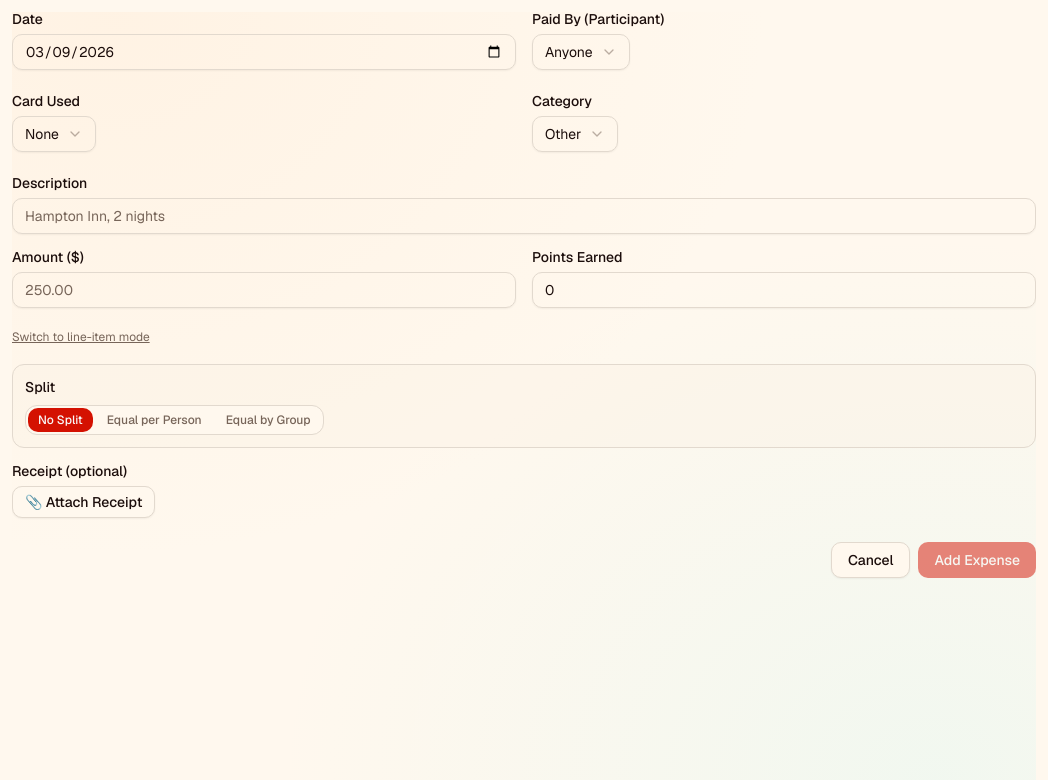
Split mode UI › shows group breakdown in Equal by Group mode when amount is filled
Expected: the text "Split" is shown, [25,378,55,396]
Type "90" into the number field labelled "Amount ($)" at (264, 290), box [12,272,516,308]
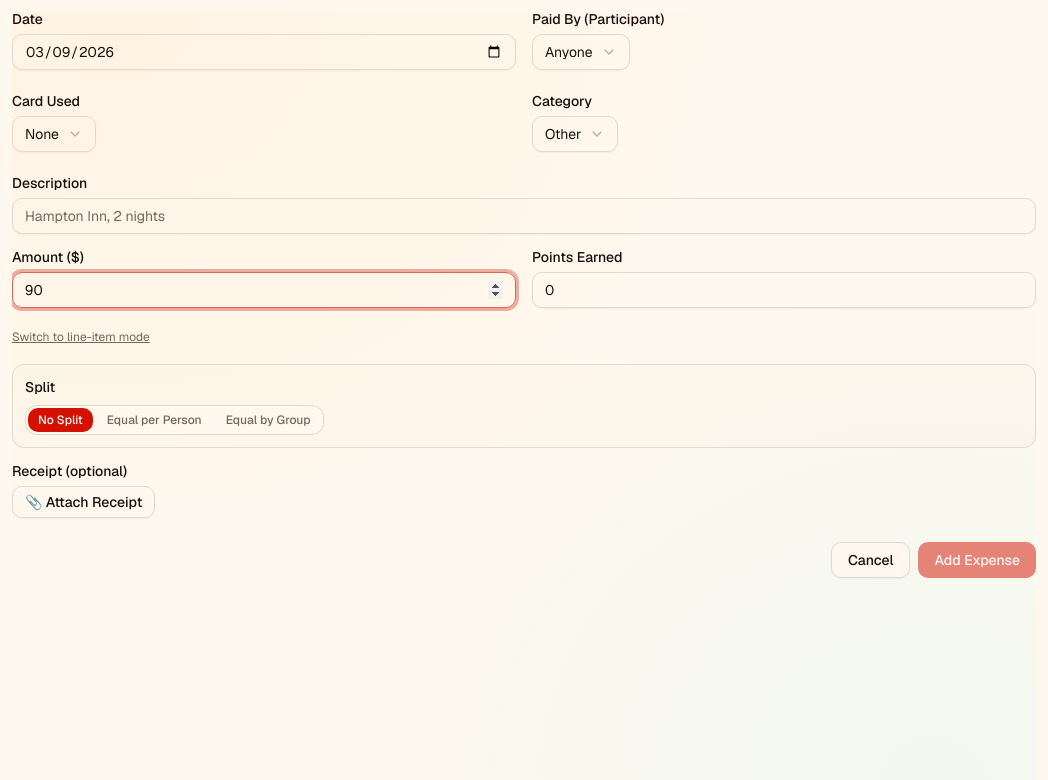
Click the button "Equal by Group" at (268, 420), box [216,408,321,432]
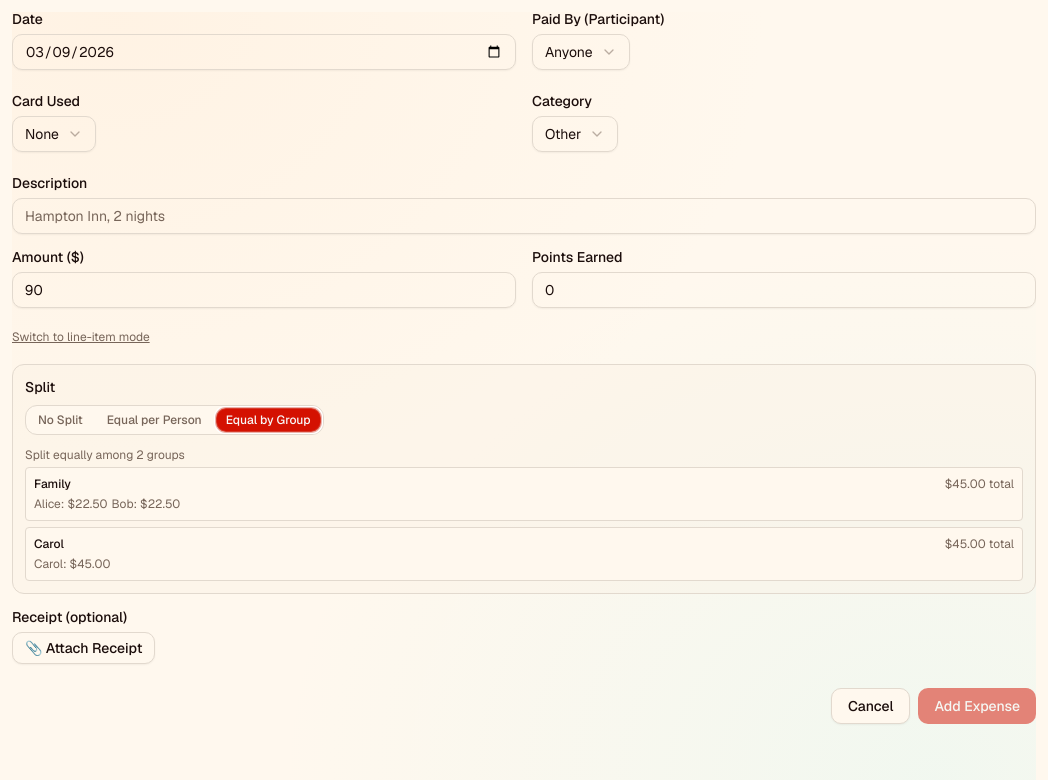
Expected: the text "Split equally among 2 groups" is shown, [25,447,185,463]
